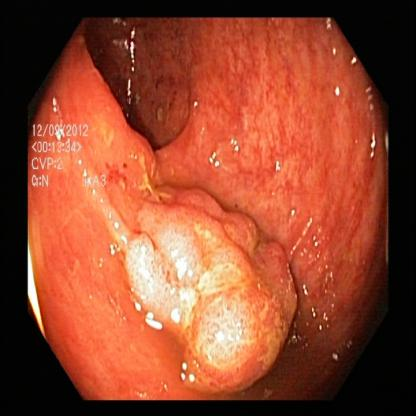Labels: (25, 110, 111, 200)
Polyps: (138, 193, 296, 386)
